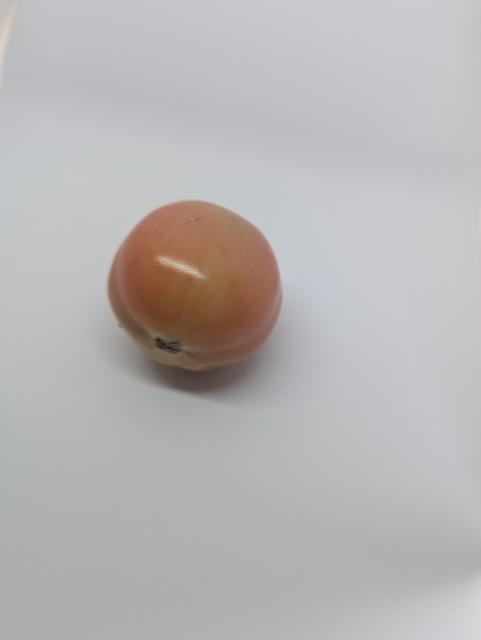turning: (103, 194, 292, 379)
